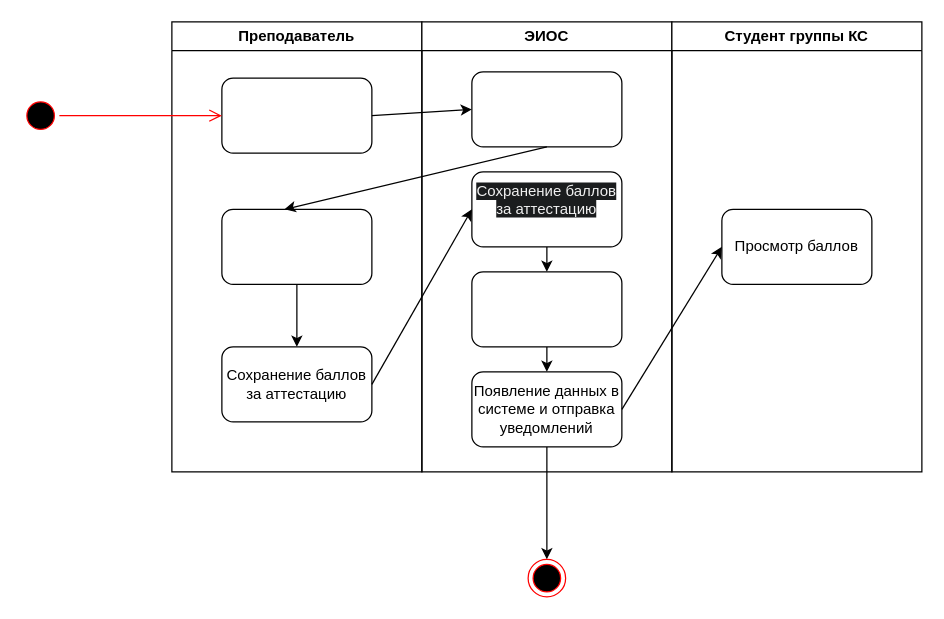
Some shapes in this 944 by 619 pixel diagram are drawn without their labels. The centre of each missing label's shape, as x and y in pixels:
Авторизация в ЭИОС: (296,115)
Валидация данных: (546,309)
Проверка прав доступа: (546,109)
Проставление баллов за итоговую аттестацию: (296,246)
